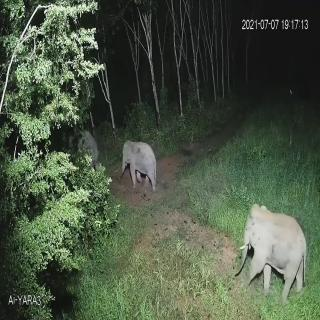Elephant: (230, 192, 320, 298), (67, 116, 108, 176), (118, 134, 160, 192)
